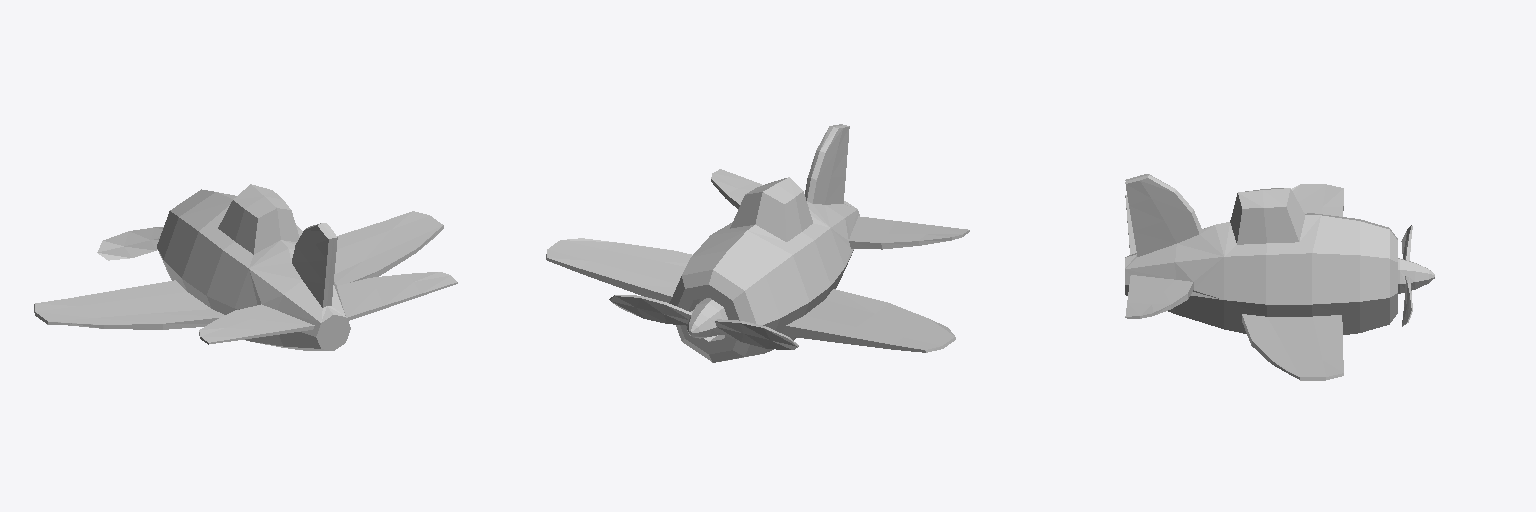
Rendered from airplaneUdemy.obj.
The picture shows the model from 3 angles: view 1: azimuth 30°, elevation 25°; view 2: azimuth 150°, elevation 25°; view 3: azimuth 270°, elevation 25°; orthographic projection.
Visible parts, largest first — view 1: Cylinder, Cylinder.001; view 2: Cylinder, Cylinder.001; view 3: Cylinder, Cylinder.001.
Part boxes in pixels (x1,y1,x2,y2): Cylinder: (34, 184, 457, 350); Cylinder.001: (97, 227, 163, 260); Cylinder: (546, 124, 969, 362); Cylinder.001: (609, 295, 798, 349); Cylinder: (1125, 174, 1397, 380); Cylinder.001: (1398, 225, 1434, 326).
Bounding box in the file's own units: 6.83 × 2.66 × 4.63.